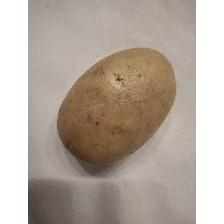Kartoffel: (56, 42, 178, 168)
